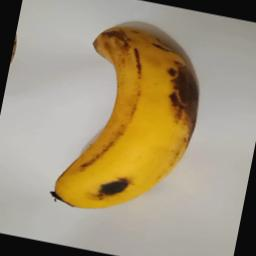Banana Unripe: (54, 18, 216, 230)
